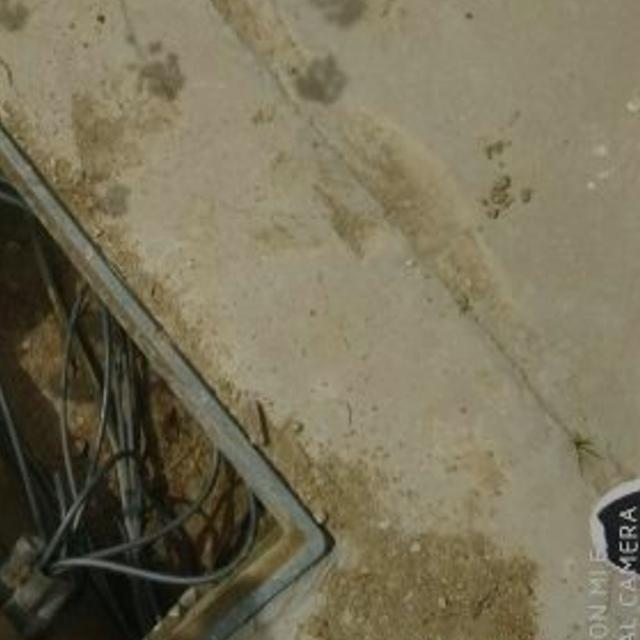lose: (0, 3, 330, 640)
